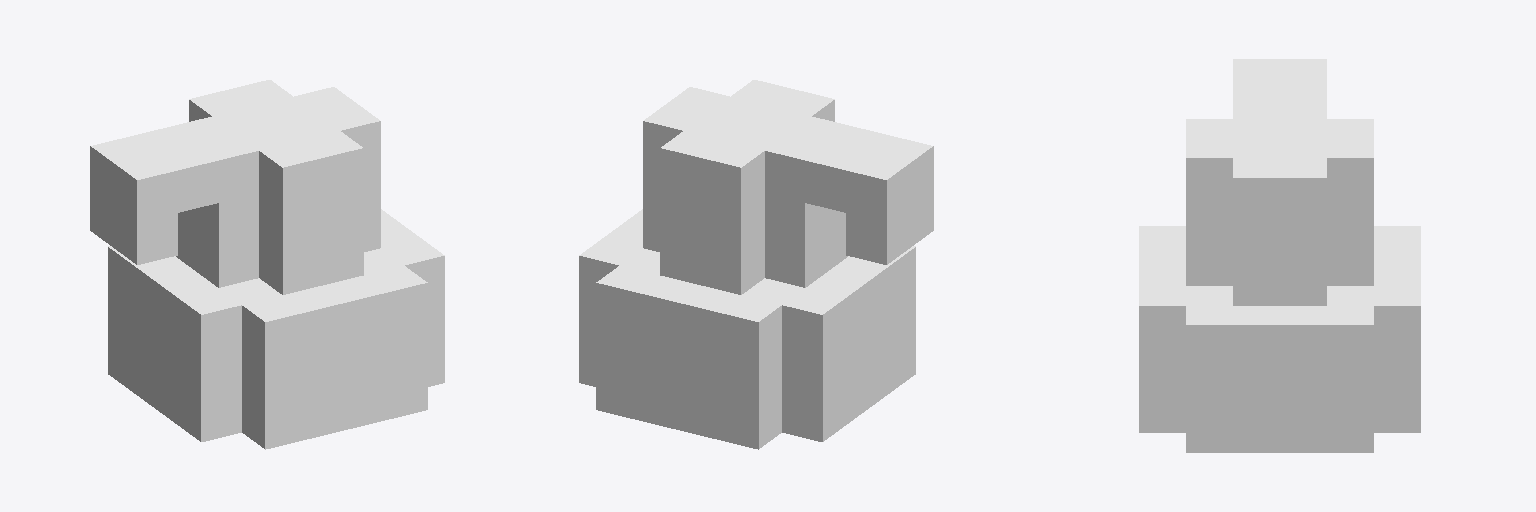
The model's file is classic:coffee-pot.obj.
3 renders of one model, left to right at view 1: azimuth 30°, elevation 25°; view 2: azimuth 150°, elevation 25°; view 3: azimuth 270°, elevation 25°, orthographic.
Visible parts, largest first — view 1: classic:coffee-pot; view 2: classic:coffee-pot; view 3: classic:coffee-pot.
Boxes of the visible parts, x1=… form: classic:coffee-pot: x1=90, y1=80, x2=444, y2=449; classic:coffee-pot: x1=579, y1=80, x2=933, y2=449; classic:coffee-pot: x1=1139, y1=59, x2=1420, y2=452.
Bounding box in the file's own units: 7 × 6 × 6.